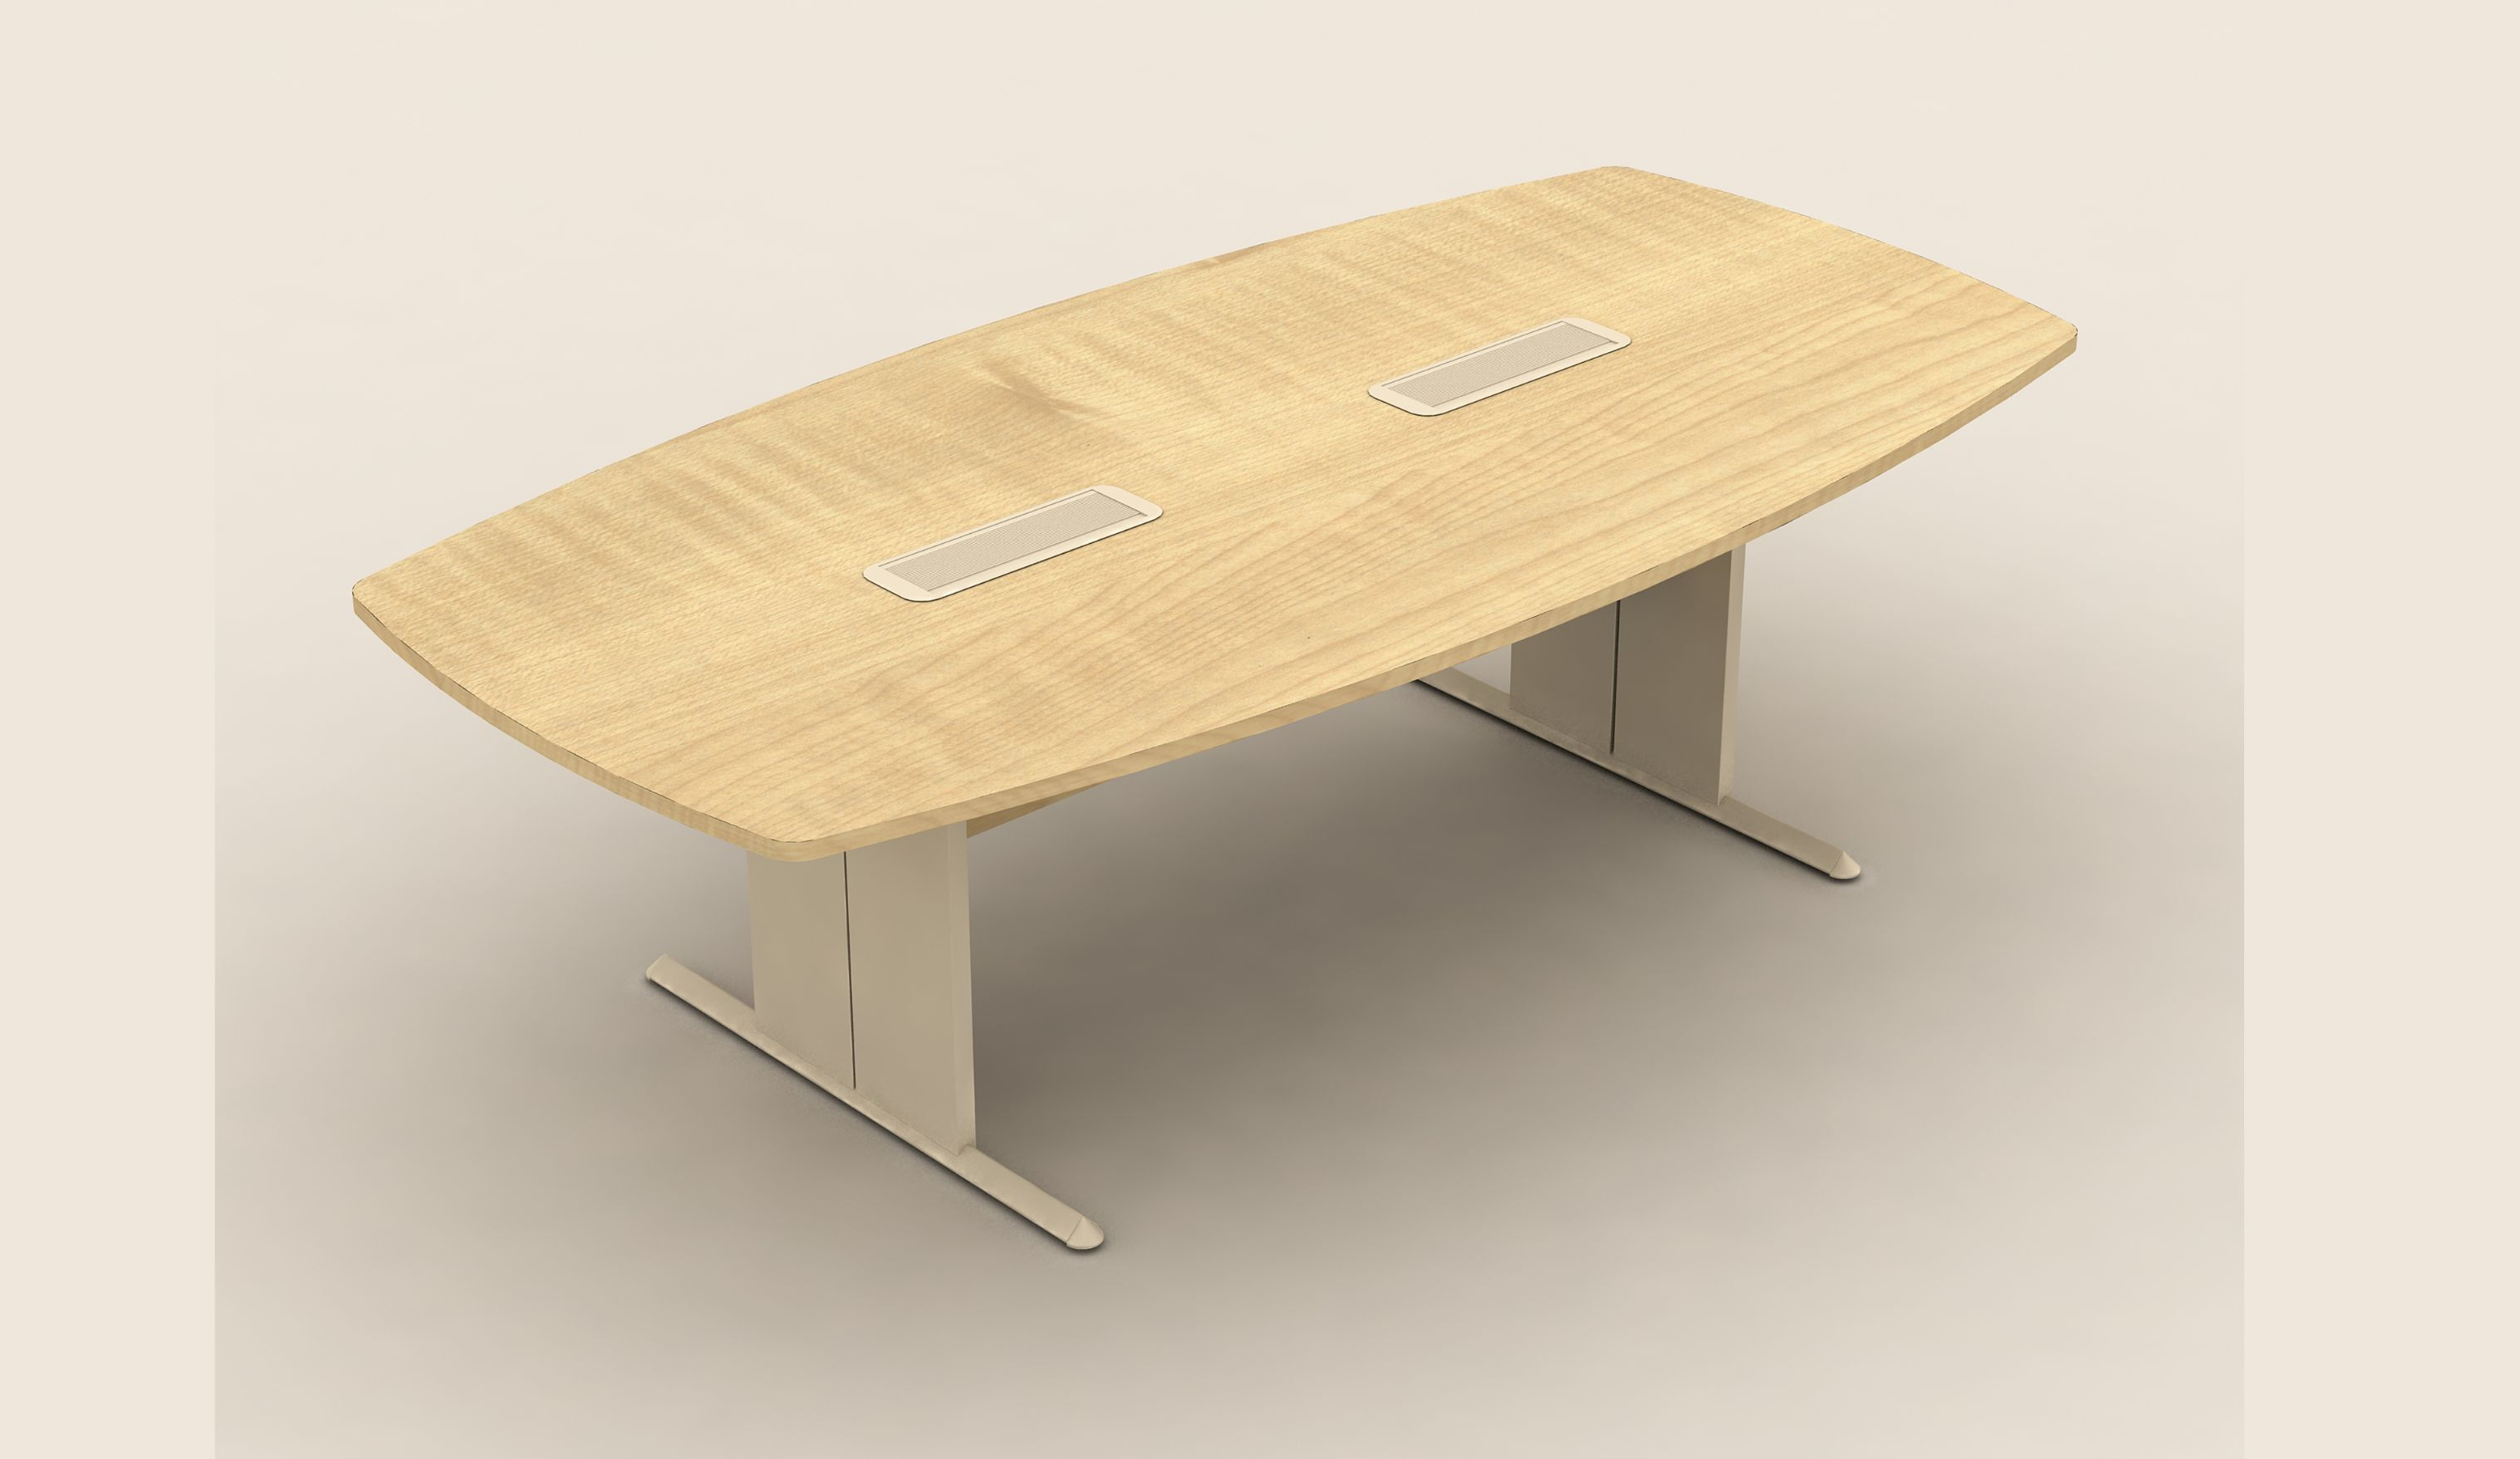conference_table: (350, 169, 2081, 1256)
